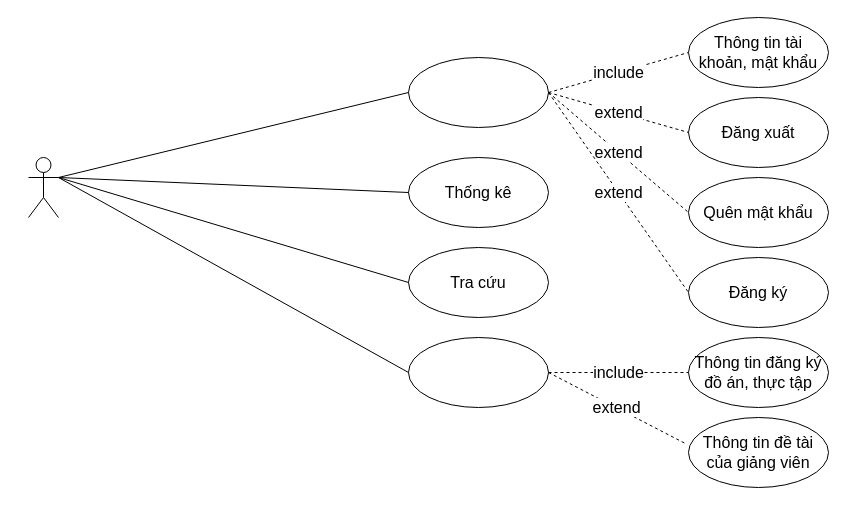
Image size: 846x505. Some labels were removed from this diagram. The centre of each missing label's shape, as x and y in pixels:
Cán bộ: the point at 43,187
Duyệt thông tin đơn đăng ký: the point at 478,372
Đăng nhập: the point at 478,92
